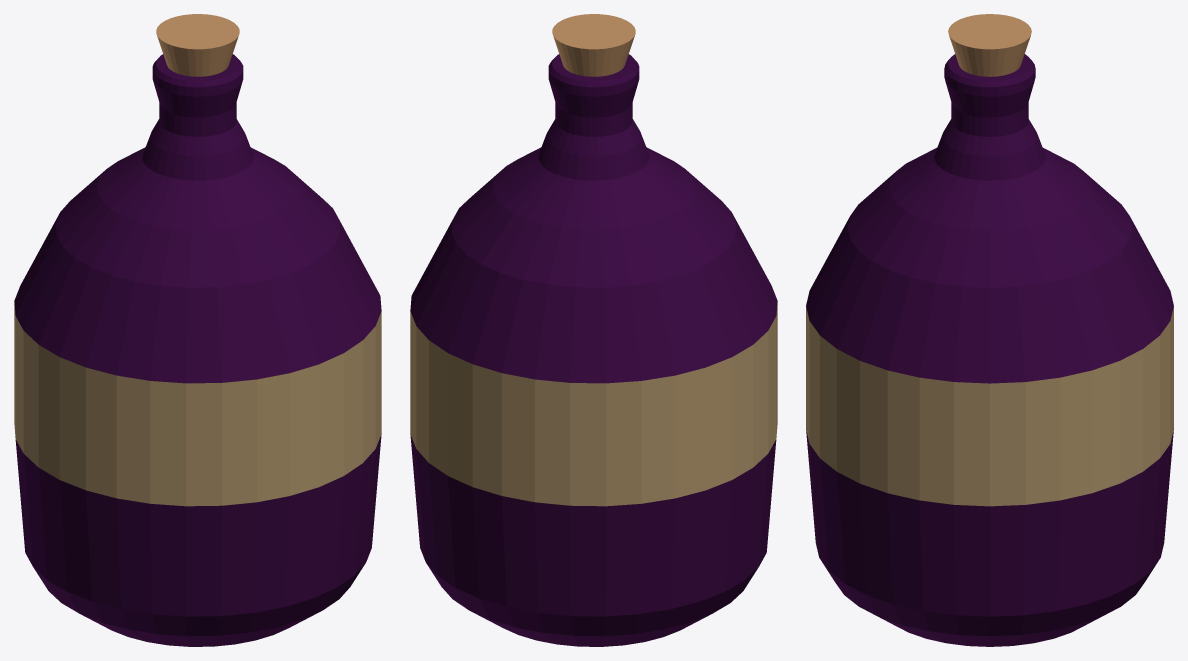
Rendered from WineBottle3_Purple.fbx.
3 views of the same model, side by side, from view 1: azimuth 30°, elevation 25°; view 2: azimuth 150°, elevation 25°; view 3: azimuth 270°, elevation 25° (orthographic).
Parts seen in each view (by area): view 1: WineBottle V3 Purple; view 2: WineBottle V3 Purple; view 3: WineBottle V3 Purple.
Boxes of the visible parts, bbox=[...] form: WineBottle V3 Purple: bbox=[14, 14, 381, 646]; WineBottle V3 Purple: bbox=[410, 14, 777, 646]; WineBottle V3 Purple: bbox=[806, 14, 1173, 646].
Bounding box in the file's own units: 10 × 17 × 10.
